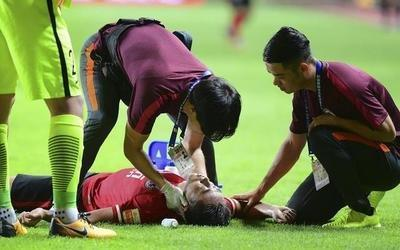Fall-Detected: (0, 154, 316, 229)
